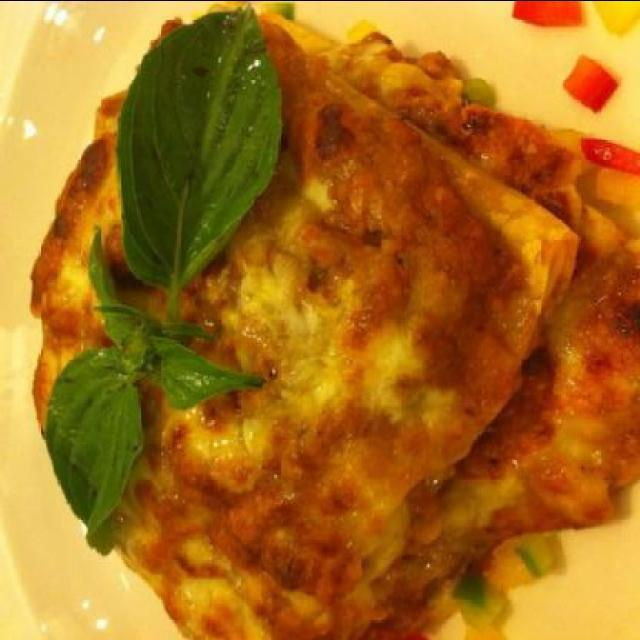Lasagna: (35, 57, 588, 621)
